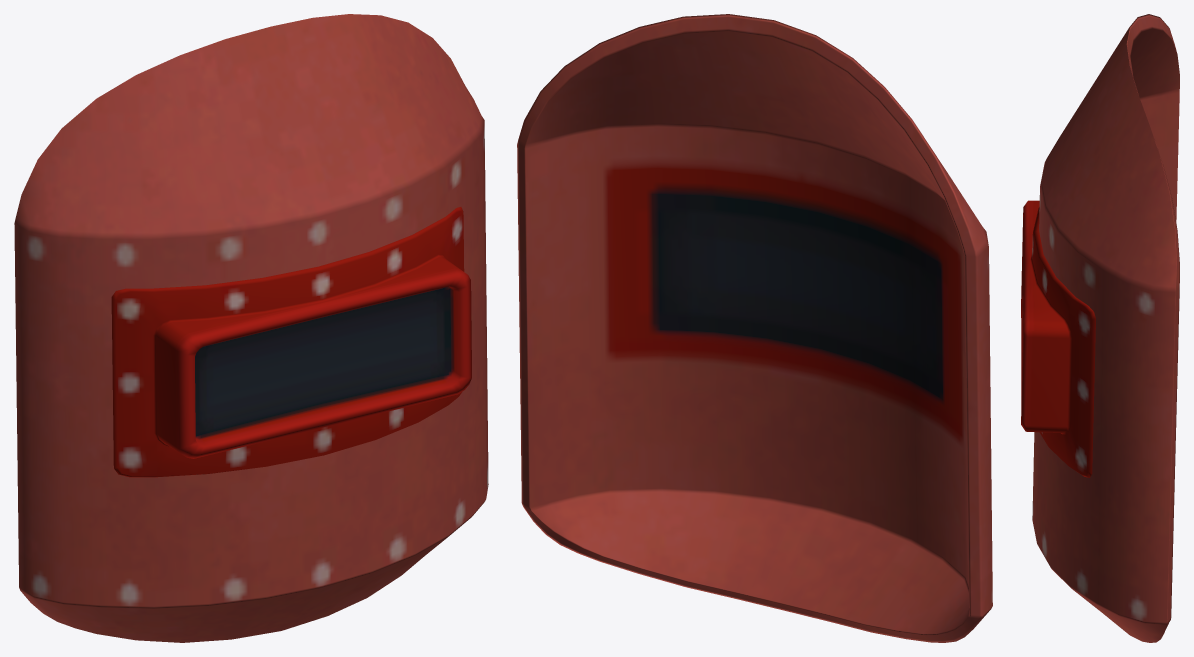
File: CapMaskWelderRed.glb
The picture shows the model from 3 angles, left to right: view 1: azimuth 30°, elevation 25°; view 2: azimuth 150°, elevation 25°; view 3: azimuth 270°, elevation 25°; orthographic projection. The views are drawn at different scales.
Parts seen in each view (by area): view 1: Body__mCap; view 2: Body__mCap; view 3: Body__mCap.
Part boxes in pixels (bbox=[...]): Body__mCap: bbox=[14, 14, 488, 642]; Body__mCap: bbox=[517, 14, 992, 642]; Body__mCap: bbox=[1021, 14, 1179, 642].
Size of the model in its own units: 6.72 by 8.34 by 2.2.
Materials: 1 (1 with a texture image).
